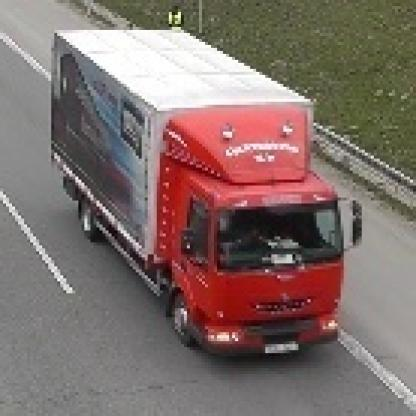truck: (46, 25, 360, 357)
